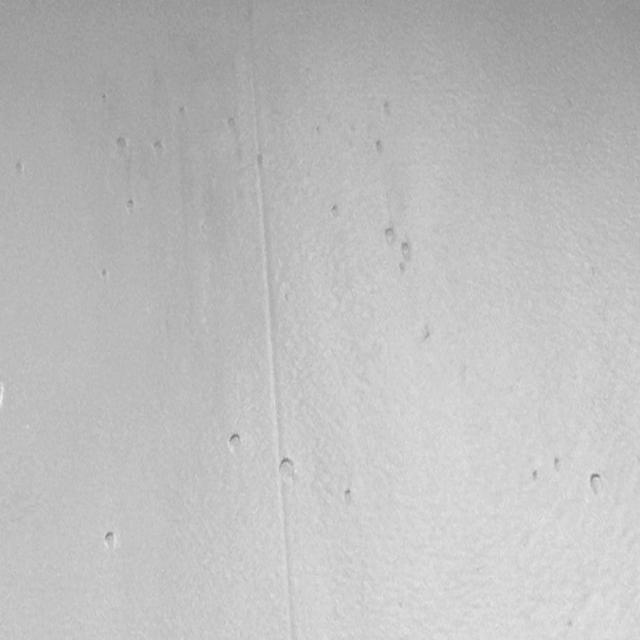pin holes: (586, 471, 609, 500), (275, 455, 297, 485), (397, 240, 418, 267), (224, 431, 246, 456), (380, 224, 400, 251), (419, 321, 438, 344), (341, 485, 359, 508), (101, 530, 118, 553), (115, 133, 130, 155), (372, 137, 388, 157), (0, 381, 12, 407), (380, 99, 395, 119), (552, 456, 566, 477), (329, 201, 345, 219), (14, 159, 28, 179), (124, 197, 138, 215), (531, 467, 545, 485), (226, 115, 240, 132), (154, 137, 167, 155), (98, 266, 111, 284), (176, 105, 188, 124), (98, 91, 110, 105)
